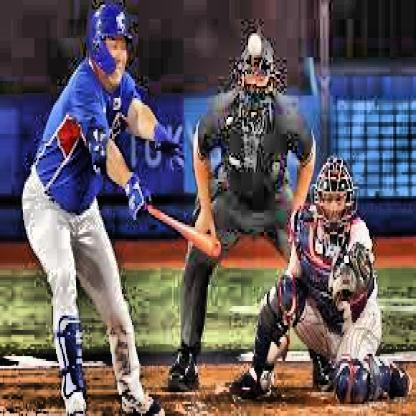baseball: (248, 32, 262, 60)
